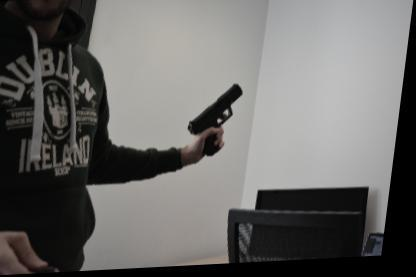pistol: (186, 83, 246, 158)
